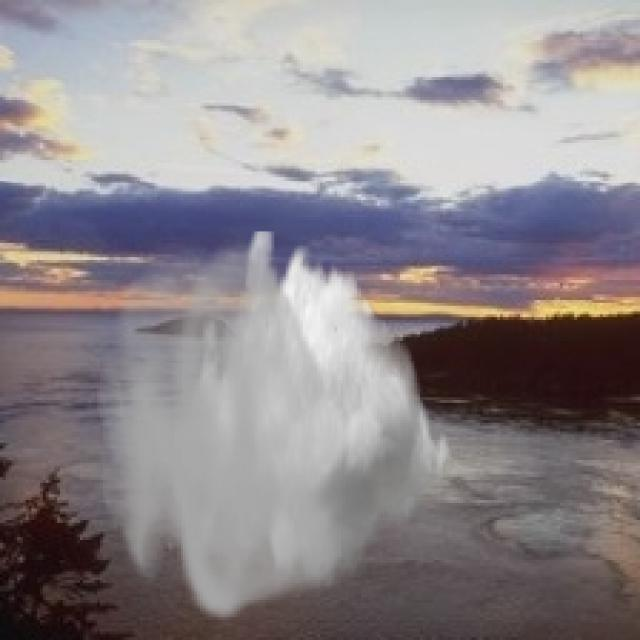Smoke: (97, 231, 454, 626)
